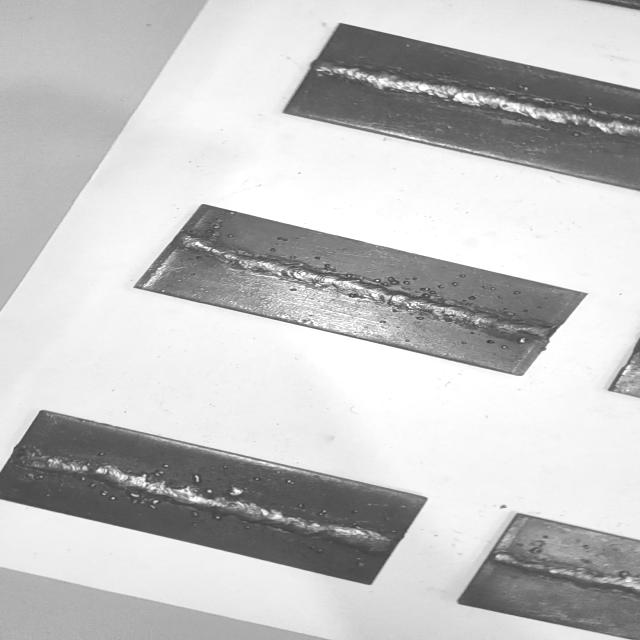Bad Weld: (11, 447, 391, 555)
Defect: (124, 467, 192, 511), (211, 479, 259, 505)
Good Weld: (175, 234, 559, 342), (310, 60, 640, 143), (480, 547, 640, 597)
